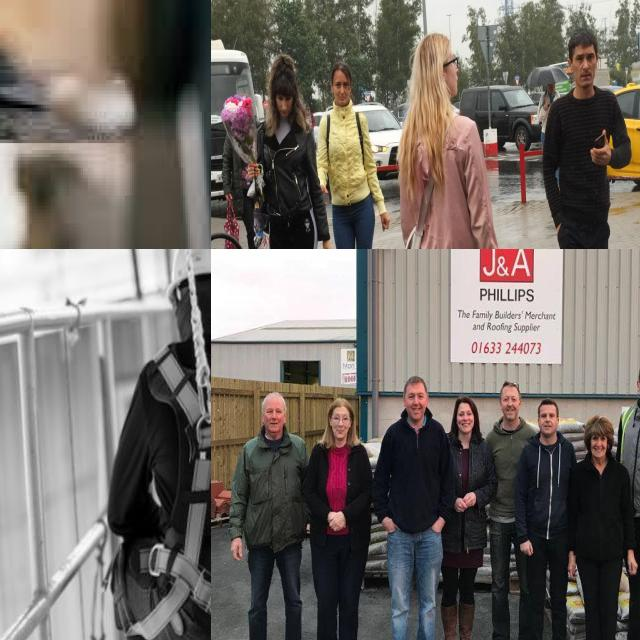Harness: (130, 347, 211, 640)
No_Glasses: (406, 390, 425, 400), (501, 394, 518, 404), (264, 407, 284, 415), (540, 410, 556, 420), (458, 409, 472, 419), (592, 435, 606, 444)
boots: (441, 602, 458, 640), (458, 603, 475, 640)
face_nomask: (404, 386, 428, 420), (262, 406, 288, 437), (590, 427, 610, 466), (498, 389, 522, 421), (452, 406, 478, 435), (537, 402, 557, 436), (329, 413, 350, 440)
hand_noglove: (452, 486, 477, 518), (563, 546, 583, 585), (326, 510, 350, 538), (624, 541, 640, 581), (426, 512, 446, 542), (381, 504, 396, 540), (230, 533, 247, 563), (520, 533, 538, 560)
head_nohelmet: (586, 412, 616, 436), (326, 393, 354, 418), (404, 367, 428, 389), (537, 395, 562, 411), (458, 390, 474, 413), (264, 390, 286, 404), (502, 377, 519, 394)
person: (372, 372, 447, 640), (230, 388, 306, 640), (307, 399, 371, 640), (522, 397, 579, 640), (571, 420, 630, 640), (486, 381, 527, 640), (445, 395, 486, 640), (621, 361, 640, 640)
